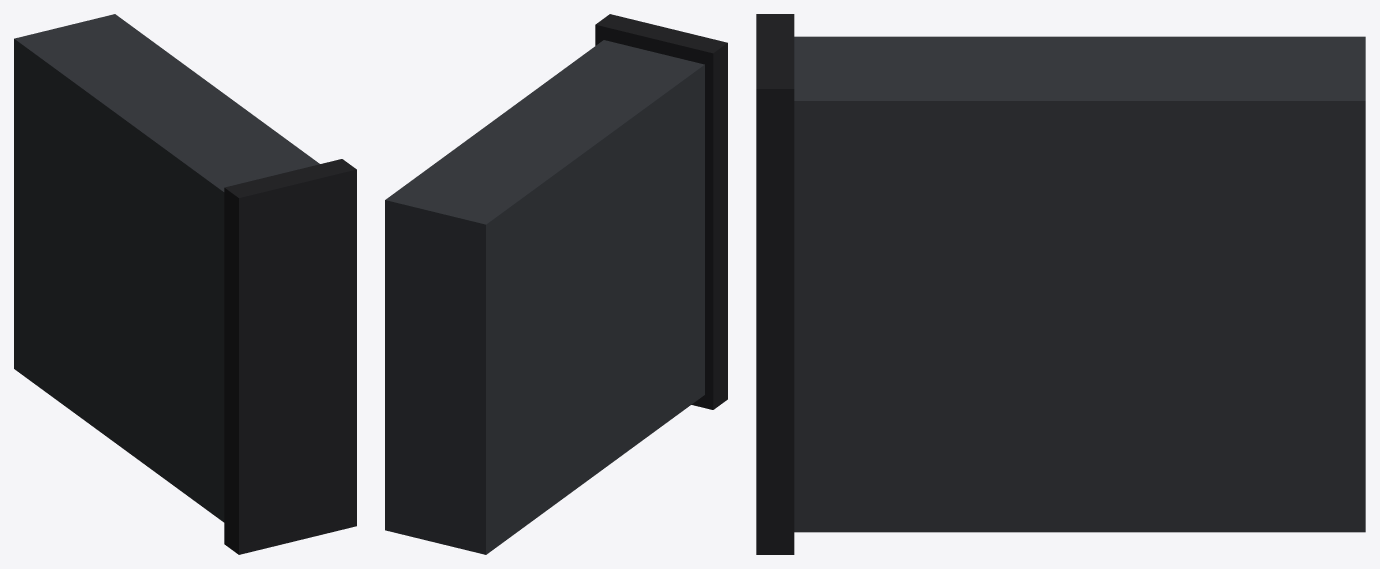
The model's file is SR25_Mag20.fbx.
3 renders of one model, left to right at view 1: azimuth 30°, elevation 25°; view 2: azimuth 150°, elevation 25°; view 3: azimuth 270°, elevation 25°, orthographic. The views are drawn at different scales.
Visible parts, largest first — view 1: prims; view 2: prims; view 3: prims.
Part boxes in pixels (x1,y1,x2,y2): prims: [14, 14, 356, 554]; prims: [385, 14, 727, 554]; prims: [756, 14, 1365, 554].
Size of the model in its own units: 0.0168 by 0.0486 by 0.0576.
